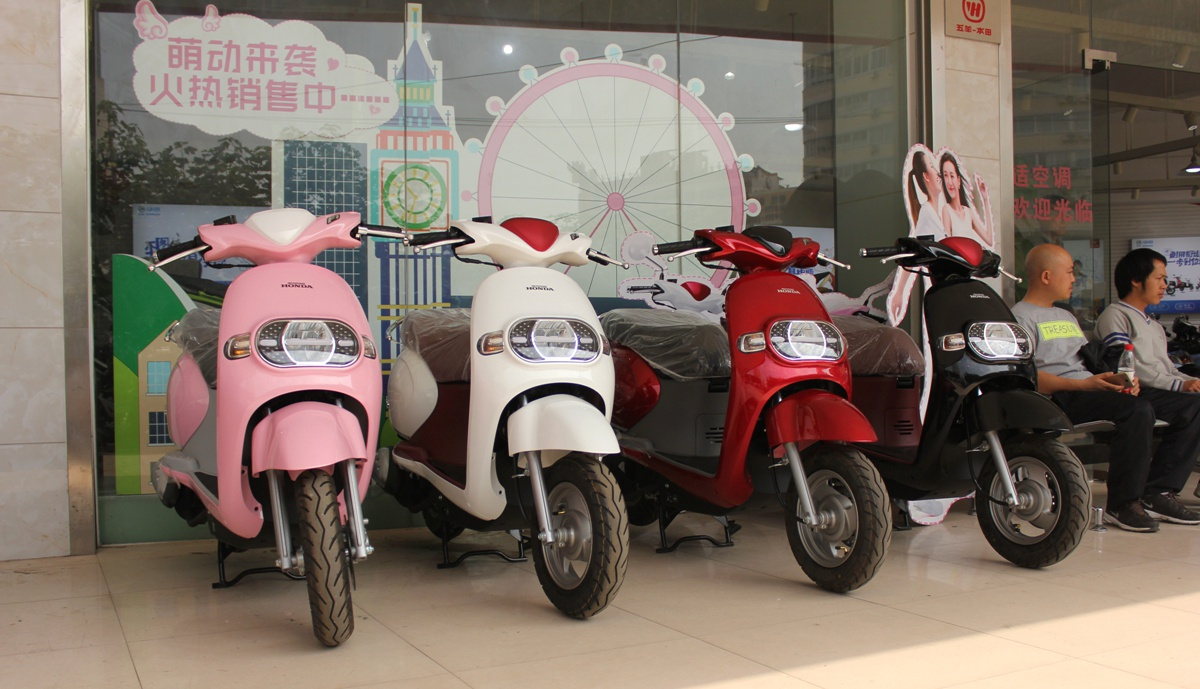non-vehicle: (150, 202, 390, 651), (628, 212, 890, 610), (391, 206, 625, 612), (885, 227, 1083, 573)
